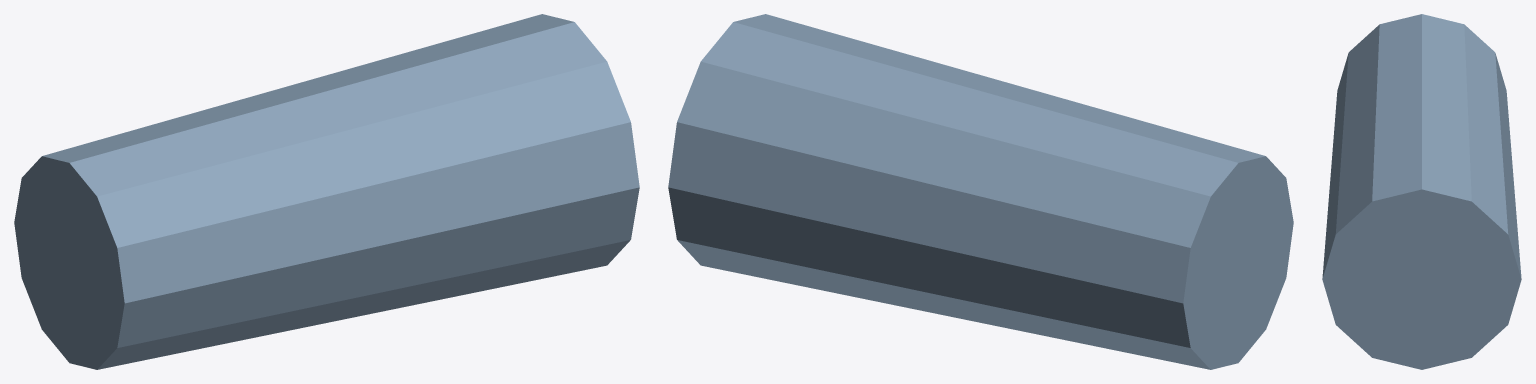
The model's file is bone_2.obj.
3 renders of one model, left to right at view 1: azimuth 30°, elevation 25°; view 2: azimuth 150°, elevation 25°; view 3: azimuth 270°, elevation 25°, orthographic. The views are drawn at different scales.
Parts seen in each view (by area): view 1: bone_2; view 2: bone_2; view 3: bone_2.
Part boxes in pixels (<box>): bone_2: <box>14,14,639,369</box>; bone_2: <box>668,14,1293,369</box>; bone_2: <box>1322,14,1521,369</box>.
Bounding box in the file's own units: 0.0404 × 0.018 × 0.018.
